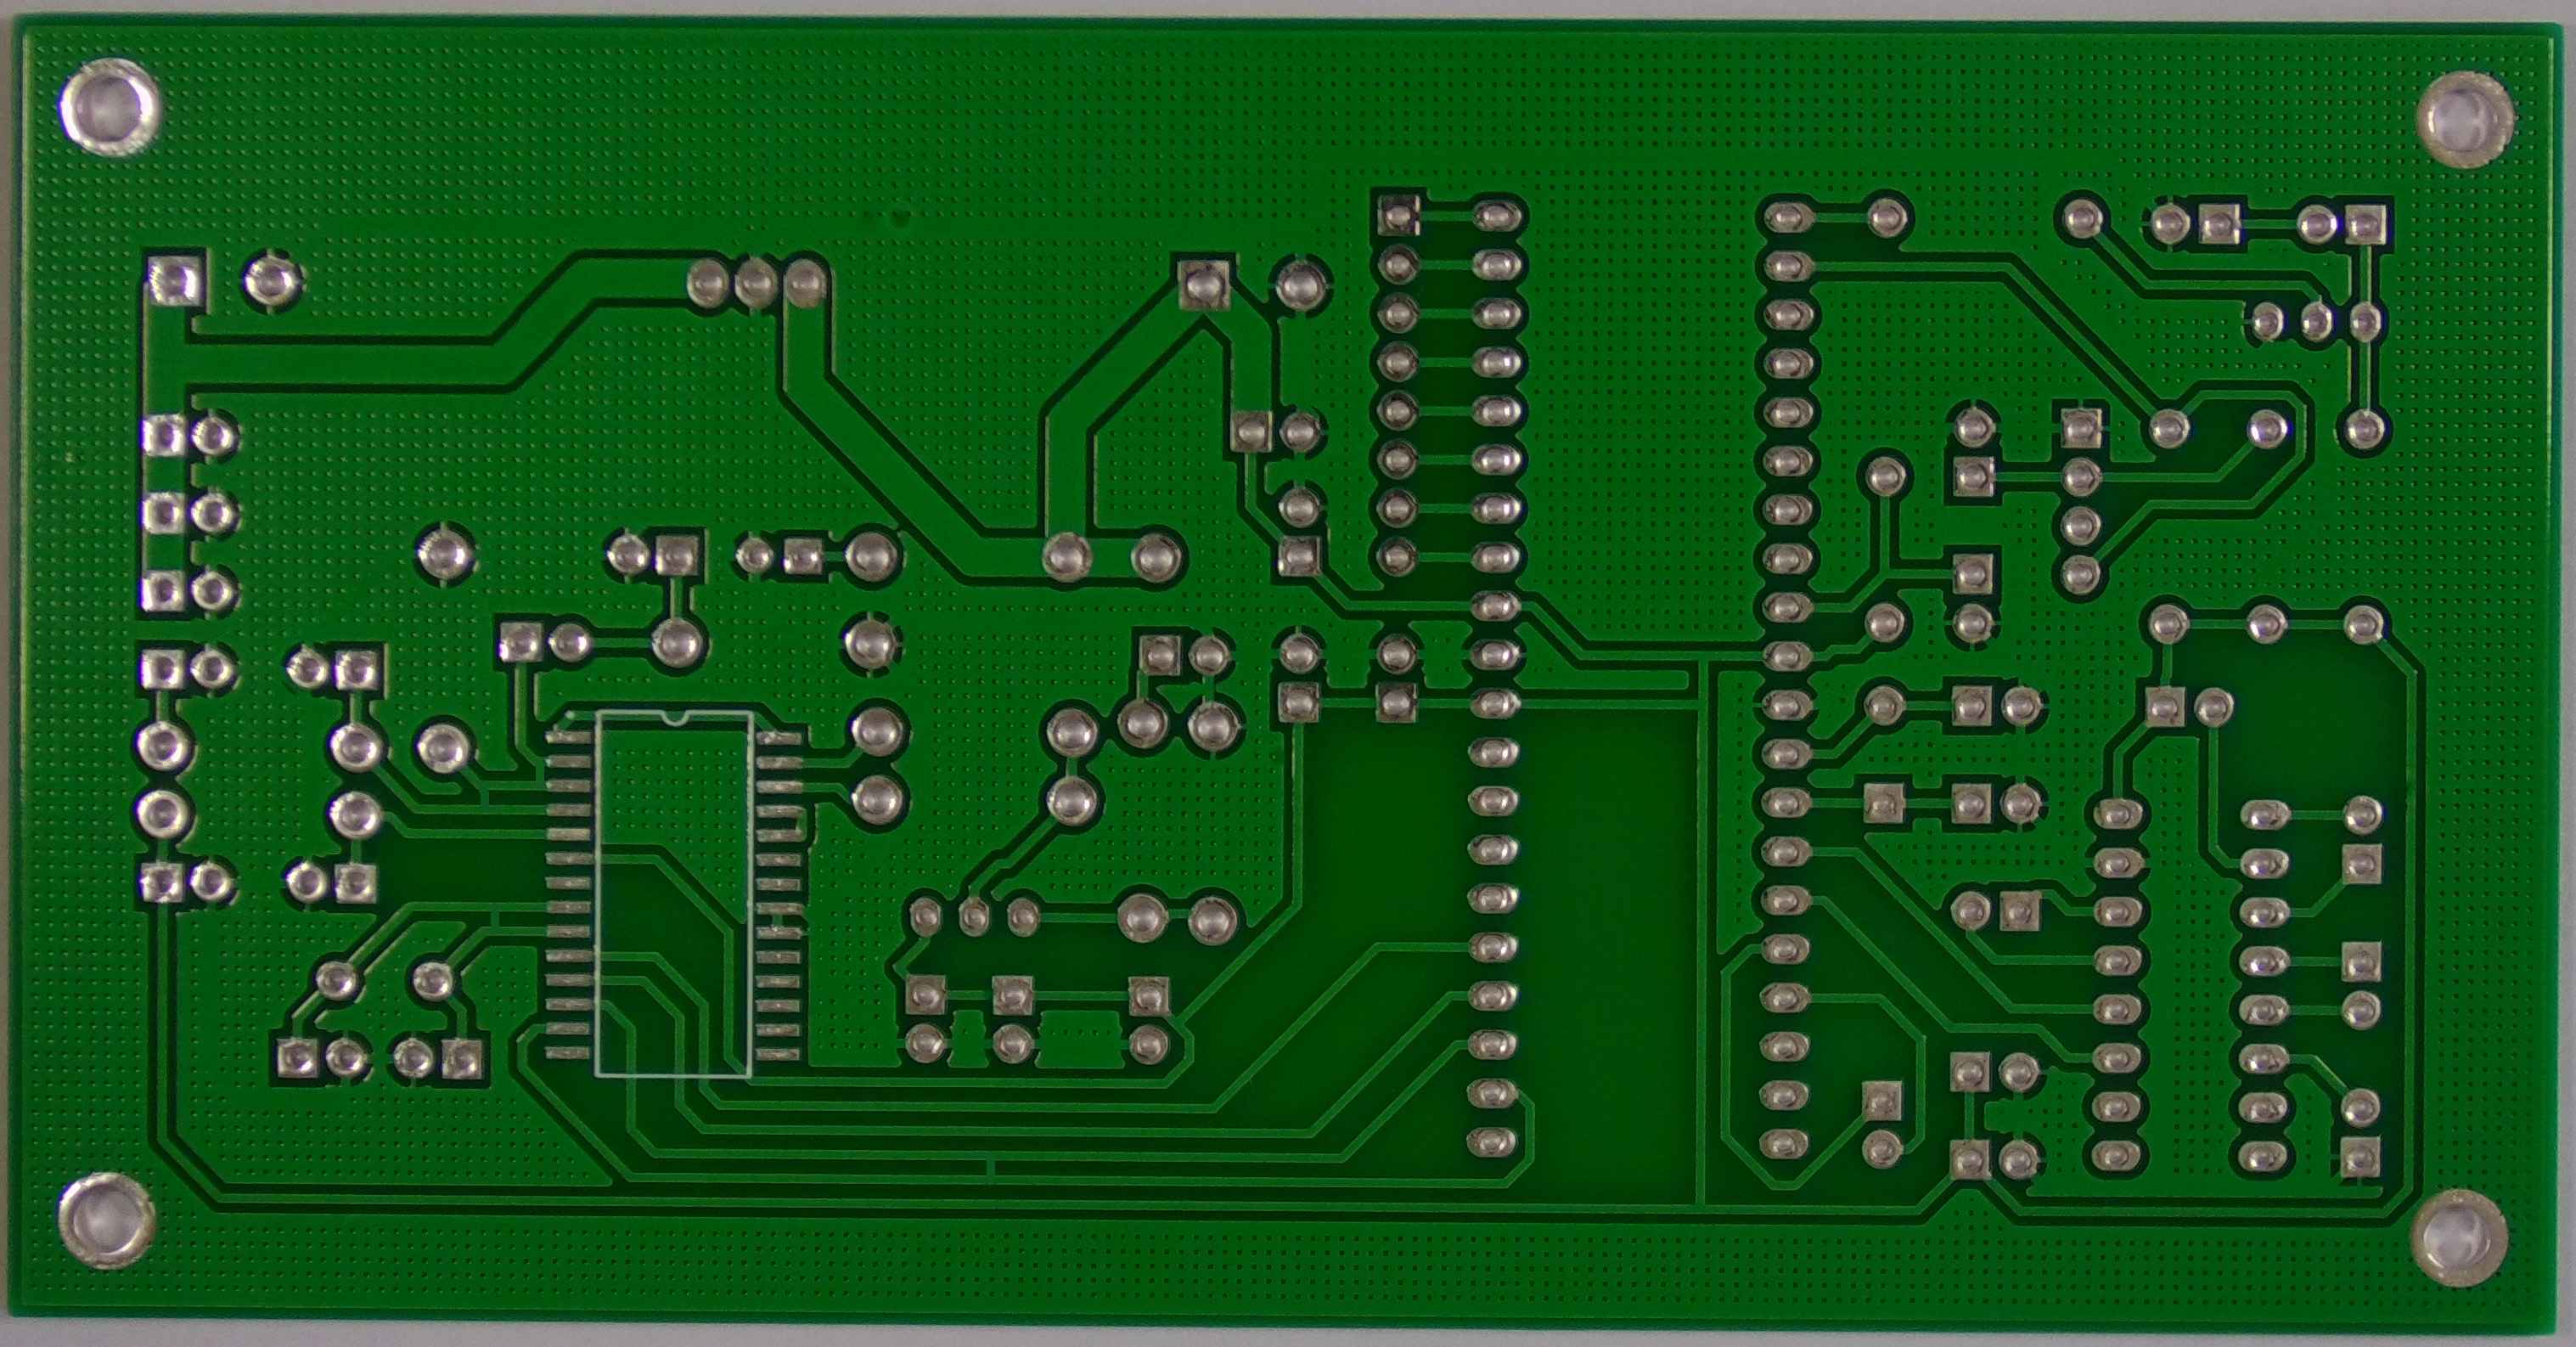short: (459, 767, 507, 820), (966, 1144, 1011, 1197), (475, 893, 511, 942), (522, 753, 558, 789)
